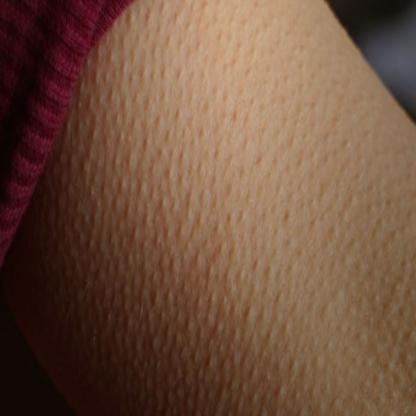Chicken Skin: (8, 1, 415, 416)
